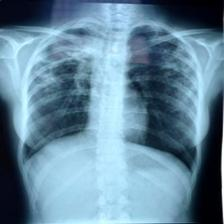tuberculosis: (15, 20, 202, 179)
